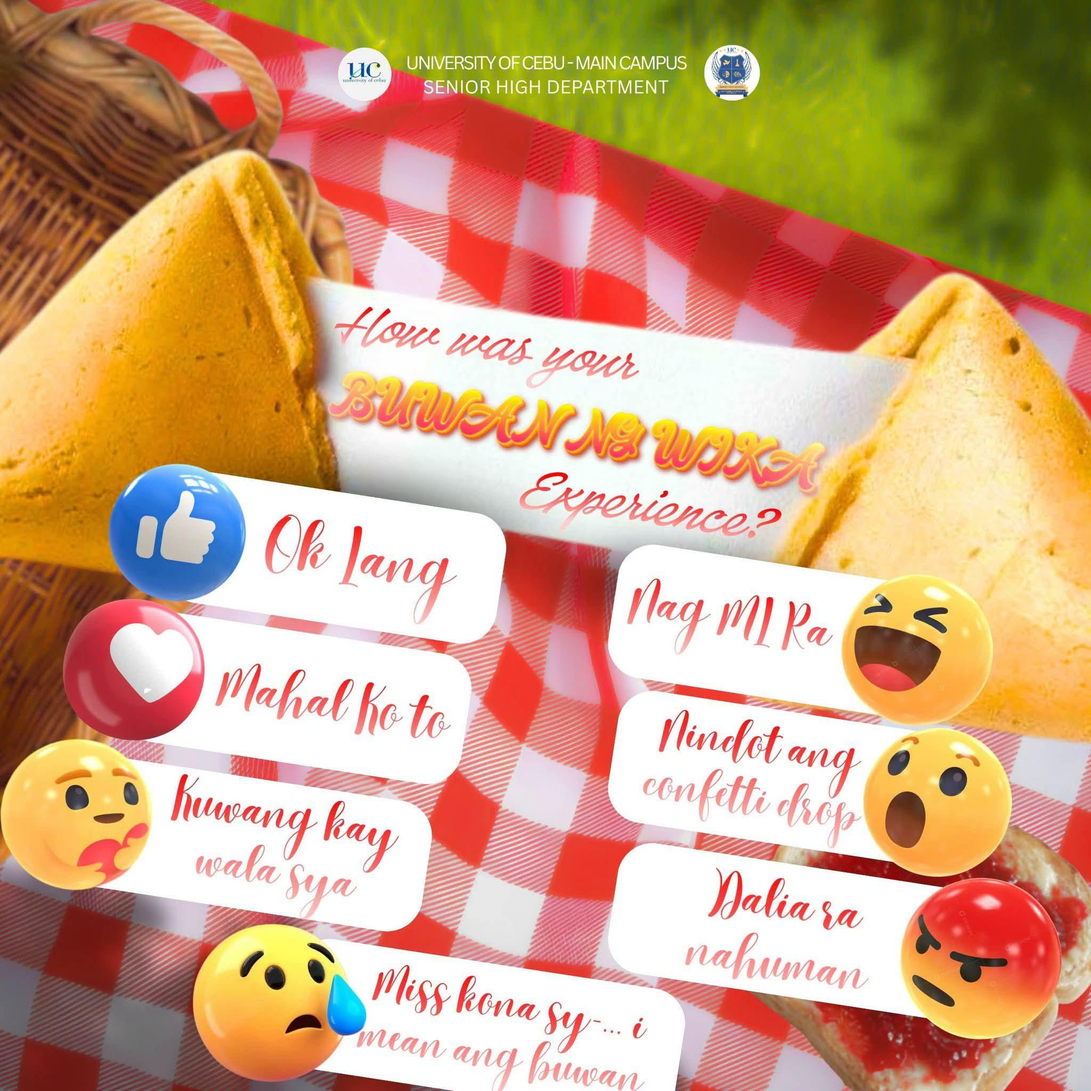logo: (700, 40, 764, 105), (333, 45, 395, 103)
text: (315, 294, 840, 554), (346, 954, 664, 1090), (628, 697, 881, 858), (163, 767, 417, 918), (672, 858, 888, 1000), (248, 498, 472, 633), (206, 646, 460, 755), (608, 567, 848, 682), (405, 49, 693, 98)
underlay: (0, 155, 1090, 744), (607, 845, 1061, 1037), (0, 739, 431, 930), (191, 926, 687, 1090), (64, 599, 472, 782), (605, 694, 1012, 875), (111, 462, 505, 645), (609, 544, 993, 724)
